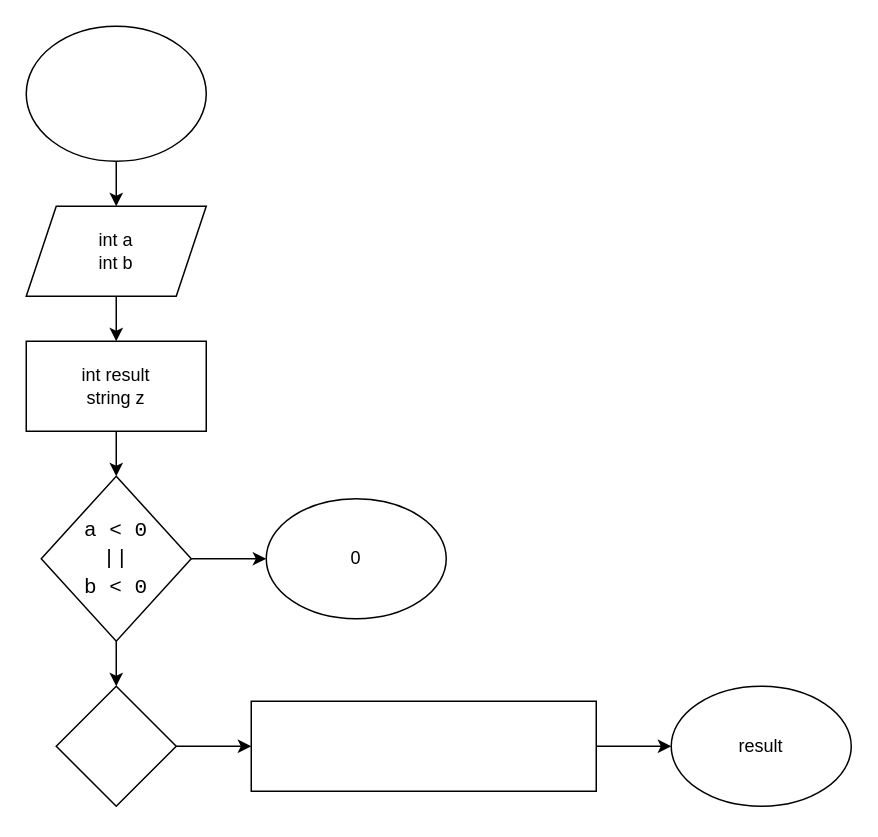
Image size: 878x837. Some labels were removed from this diagram. Here are the shapes that lost their labels. From the top down, the centre of each, then its label:
At pixel 115 93: "START".
At pixel 115 745: "Else".
At pixel 423 745: "int aux = a + b; z = to_string(aux); result = aux * z.size();".
